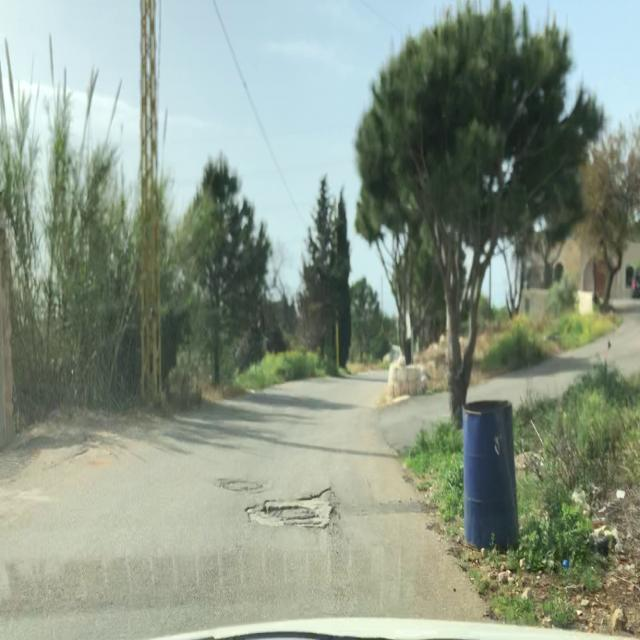Pothole: (244, 485, 342, 533)
